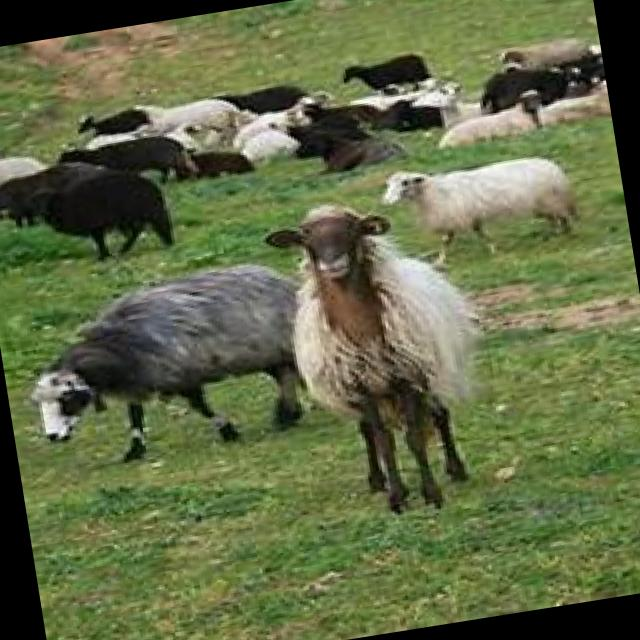animal: (262, 181, 513, 529), (16, 253, 326, 477), (380, 142, 588, 272), (27, 159, 182, 275), (284, 112, 414, 184), (423, 85, 552, 155), (326, 44, 440, 106)
